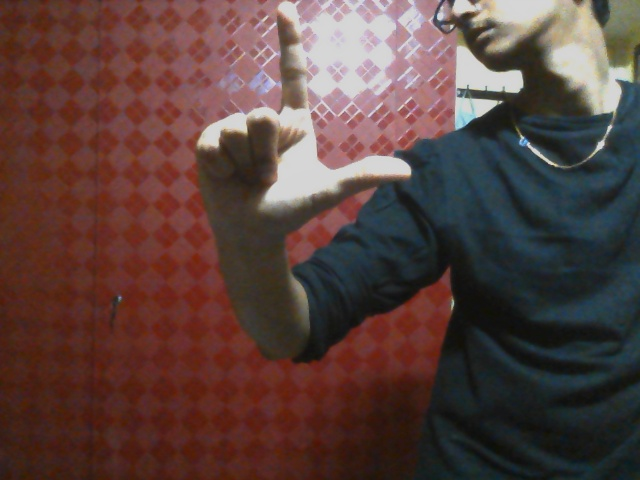L: (198, 1, 413, 225)
